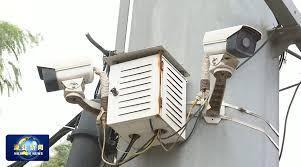tutu: (202, 23, 267, 65)
